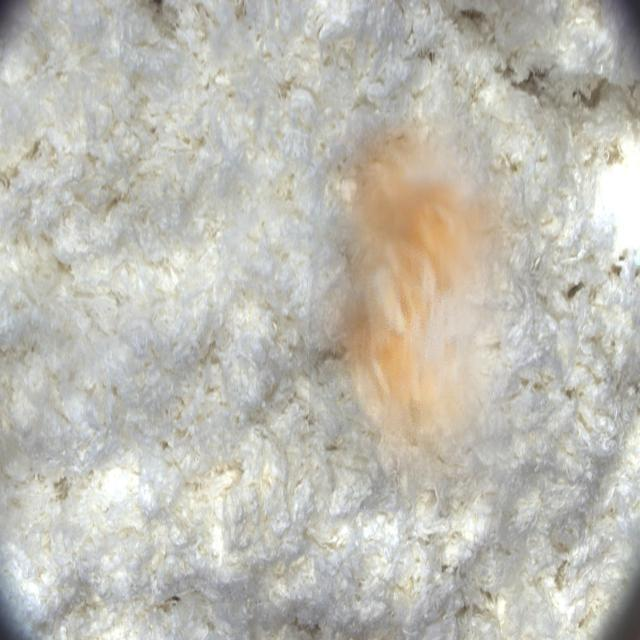dust: (309, 112, 531, 510)
